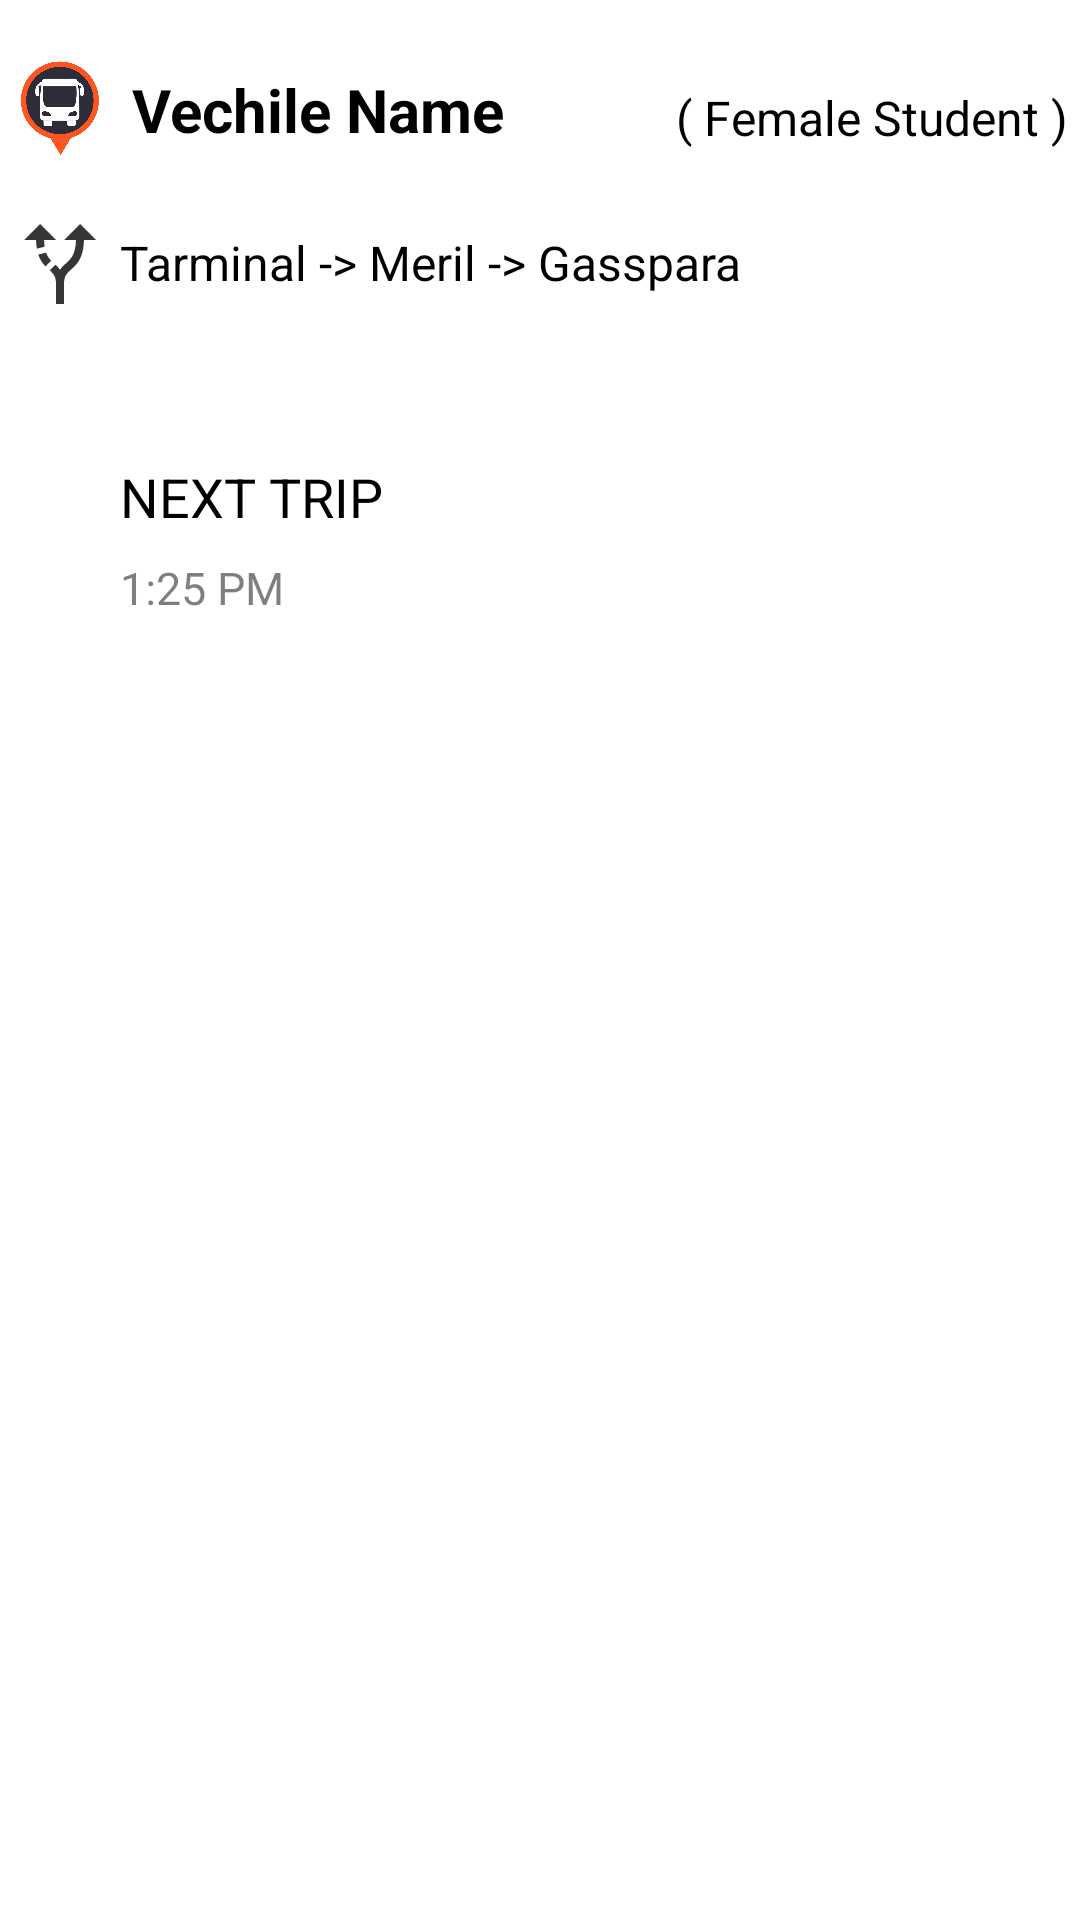

Named icons in this screenshot (1080w x 1920h) and their centers, [x,y]:
bus: [60,108]
route: [60,264]
